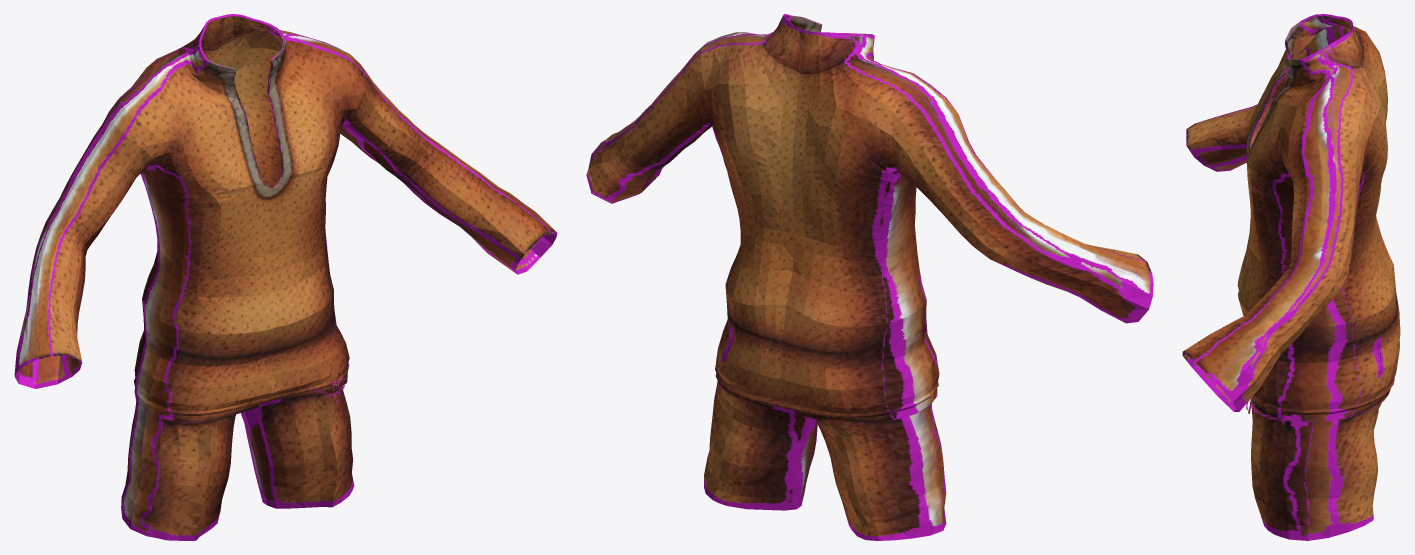
3 renders of one model, left to right at view 1: azimuth 30°, elevation 25°; view 2: azimuth 150°, elevation 25°; view 3: azimuth 270°, elevation 25°, orthographic. The views are drawn at different scales.
Bounding box in the file's own units: 1.05 × 0.893 × 0.3725.
1 material, 1 textured.
